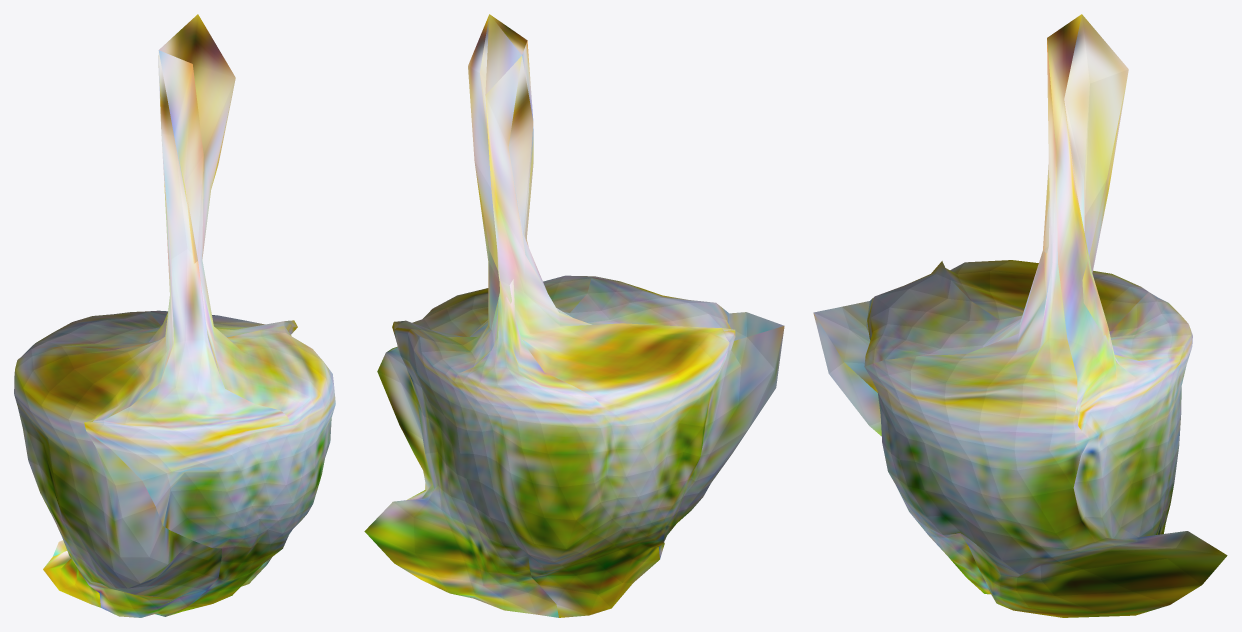
3 renders of one model, left to right at view 1: azimuth 30°, elevation 25°; view 2: azimuth 150°, elevation 25°; view 3: azimuth 270°, elevation 25°, orthographic. The views are drawn at different scales.
Parts seen in each view (by area): view 1: pMesh1; view 2: pMesh1; view 3: pMesh1.
Part boxes in pixels (x1,y1,x2,y2): pMesh1: (14,14,335,617); pMesh1: (364,14,784,617); pMesh1: (813,14,1227,617).
Bounding box in the file's own units: 2.13 × 3.69 × 2.34.
1 material, 1 textured.
